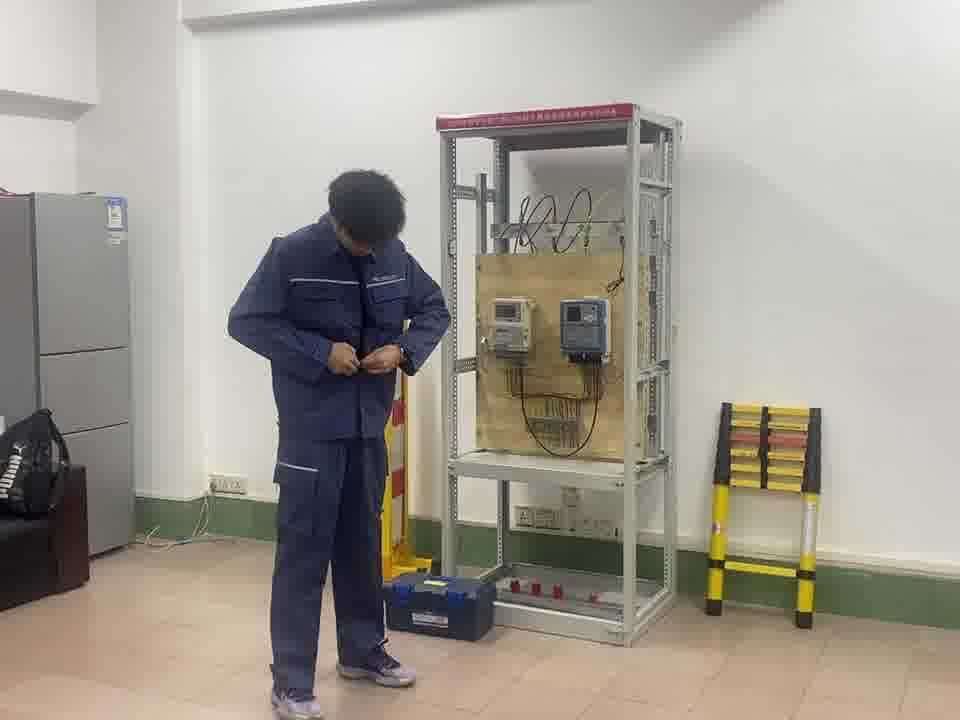downsuit: (265, 451, 396, 695)
hand: (328, 342, 362, 380), (362, 341, 401, 373)
person: (226, 165, 451, 709)
unhalt: (327, 170, 408, 256)
upsuit: (228, 217, 443, 426)
